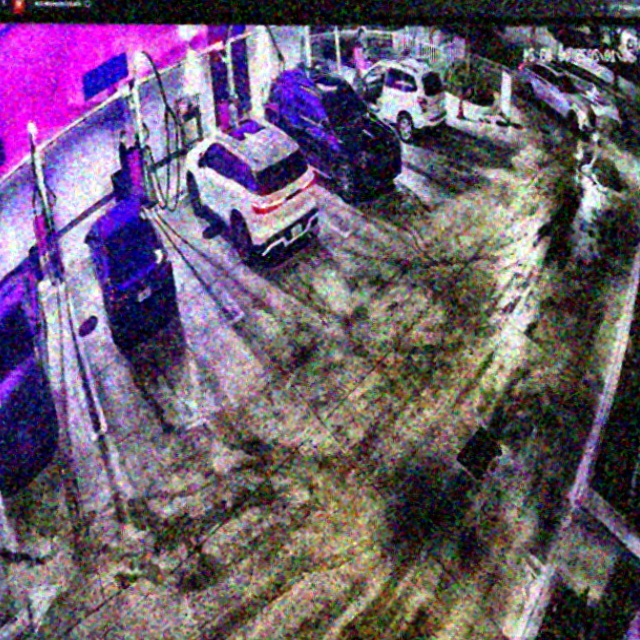Car: (184, 120, 315, 265), (263, 64, 401, 198), (87, 195, 176, 342)
